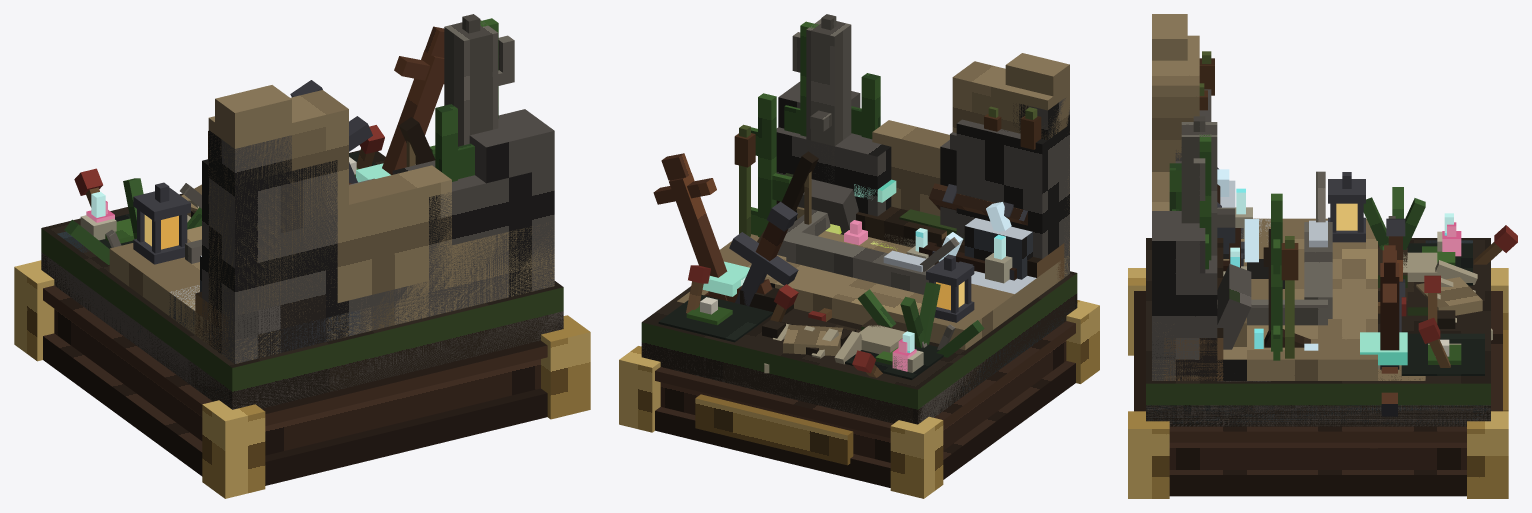
The model's file is blocks_trophies.glb.
3 renders of one model, left to right at view 1: azimuth 30°, elevation 25°; view 2: azimuth 150°, elevation 25°; view 3: azimuth 270°, elevation 25°, orthographic. The views are drawn at different scales.
Visible parts, largest first — view 1: bog_slime_trophy, brute_trophy, marksman_trophy, shrike_trophy, lurker_trophy, stalker_trophy, revenant_trophy; view 2: bog_slime_trophy, marksman_trophy, brute_trophy, shrike_trophy, lurker_trophy, revenant_trophy, stalker_trophy; view 3: bog_slime_trophy, marksman_trophy, brute_trophy, shrike_trophy, lurker_trophy, revenant_trophy, stalker_trophy.
Boxes of the visible parts, x1=… form: bog_slime_trophy: x1=14, y1=131, x2=590, y2=498; brute_trophy: x1=41, y1=109, x2=563, y2=409; marksman_trophy: x1=74, y1=85, x2=554, y2=363; shrike_trophy: x1=169, y1=14, x2=514, y2=361; lurker_trophy: x1=41, y1=18, x2=498, y2=405; stalker_trophy: x1=64, y1=117, x2=435, y2=354; revenant_trophy: x1=80, y1=80, x2=372, y2=240; bog_slime_trophy: x1=619, y1=106, x2=1099, y2=498; marksman_trophy: x1=677, y1=53, x2=1069, y2=377; brute_trophy: x1=641, y1=81, x2=1069, y2=423; shrike_trophy: x1=777, y1=14, x2=1067, y2=294; lurker_trophy: x1=653, y1=21, x2=1076, y2=415; revenant_trophy: x1=729, y1=132, x2=1012, y2=373; stalker_trophy: x1=702, y1=151, x2=1064, y2=364; bog_slime_trophy: x1=1128, y1=51, x2=1508, y2=498; marksman_trophy: x1=1152, y1=14, x2=1517, y2=380; brute_trophy: x1=1146, y1=89, x2=1490, y2=426; shrike_trophy: x1=1181, y1=116, x2=1461, y2=375; lurker_trophy: x1=1146, y1=134, x2=1490, y2=426; revenant_trophy: x1=1175, y1=147, x2=1492, y2=349; stalker_trophy: x1=1217, y1=187, x2=1477, y2=368.
Bounding box in the file's own units: 1.08 × 1 × 1.02.
66 materials, 66 textured.
